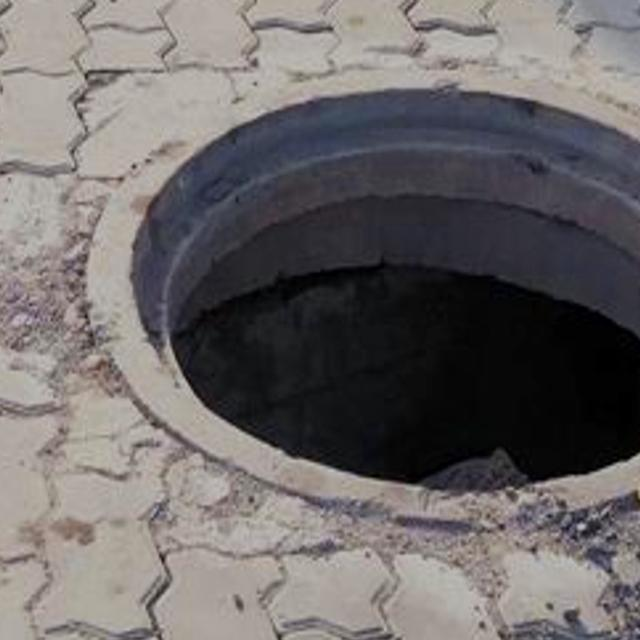lose: (47, 51, 640, 545)
